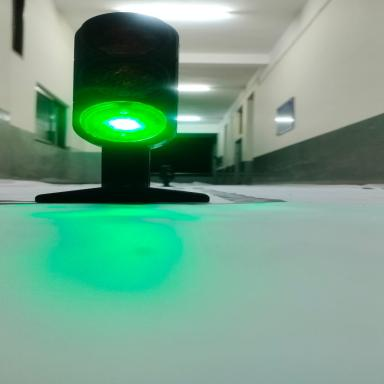traffic red: (54, 8, 243, 221)
